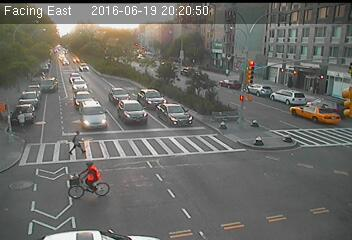neg: (69, 156, 109, 209), (220, 121, 240, 147)
pos: (64, 125, 88, 156)
